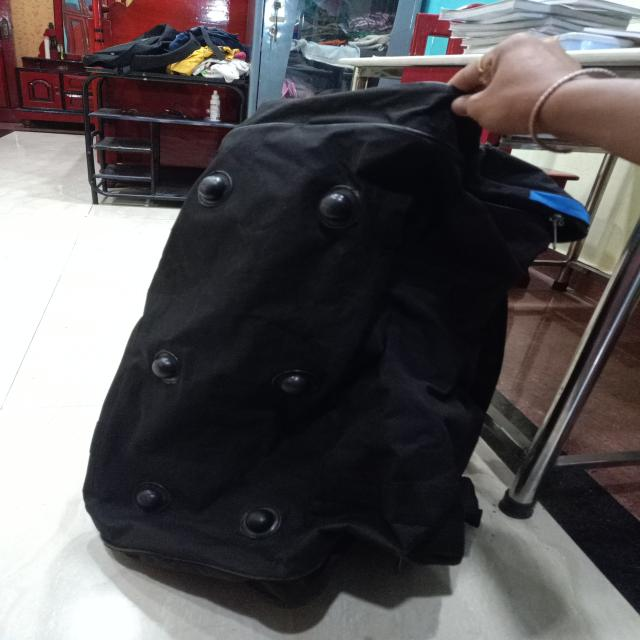suitcaserotation: (76, 74, 594, 613)
